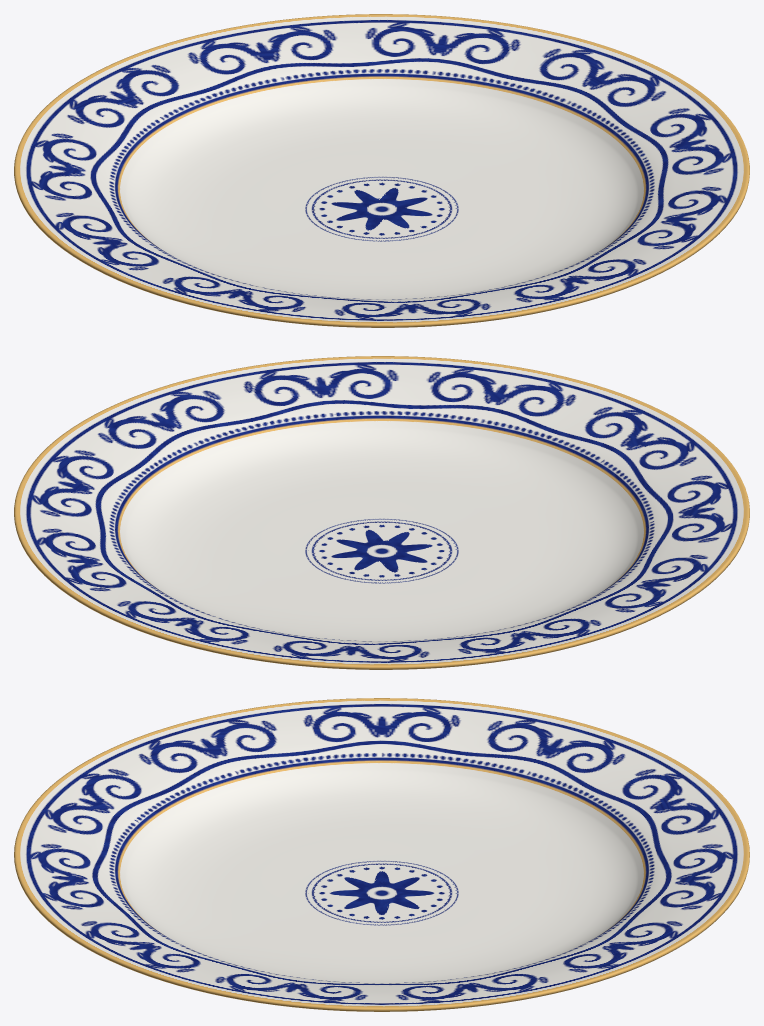
File: baroque-plate.glb
3 renders of one model, top to bottom at view 1: azimuth 30°, elevation 25°; view 2: azimuth 150°, elevation 25°; view 3: azimuth 270°, elevation 25°, orthographic.
Parts seen in each view (by area): view 1: baroque-plate; view 2: baroque-plate; view 3: baroque-plate.
Boxes of the visible parts, x1,y1,x2,y2 form: baroque-plate: (14,14,749,327); baroque-plate: (14,356,749,669); baroque-plate: (14,698,749,1011).
Size of the model in its own units: 0.2707 by 0.0238 by 0.2707.
1 material, 1 textured.
